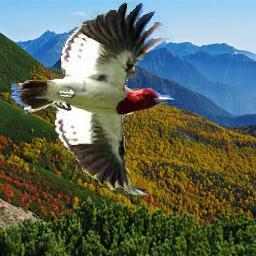Woodpecker: (12, 3, 175, 196)
